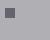Scratch: (6, 8, 14, 16)
